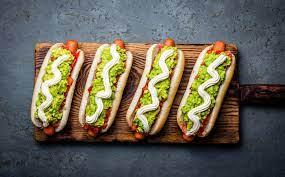Completos: (175, 41, 244, 144), (126, 41, 179, 141), (32, 38, 83, 138), (84, 38, 129, 139)
